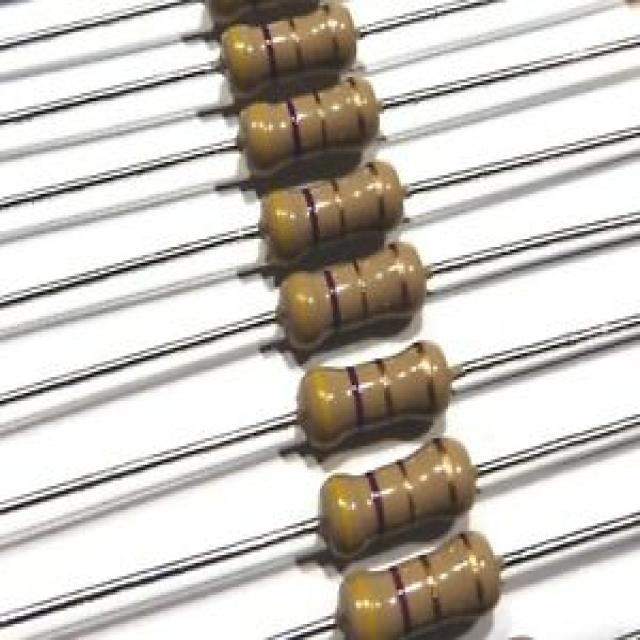Resistor: (213, 65, 394, 180), (318, 434, 477, 556), (336, 531, 502, 638), (303, 341, 454, 449), (279, 242, 424, 350), (259, 163, 402, 261), (219, 1, 358, 91)
